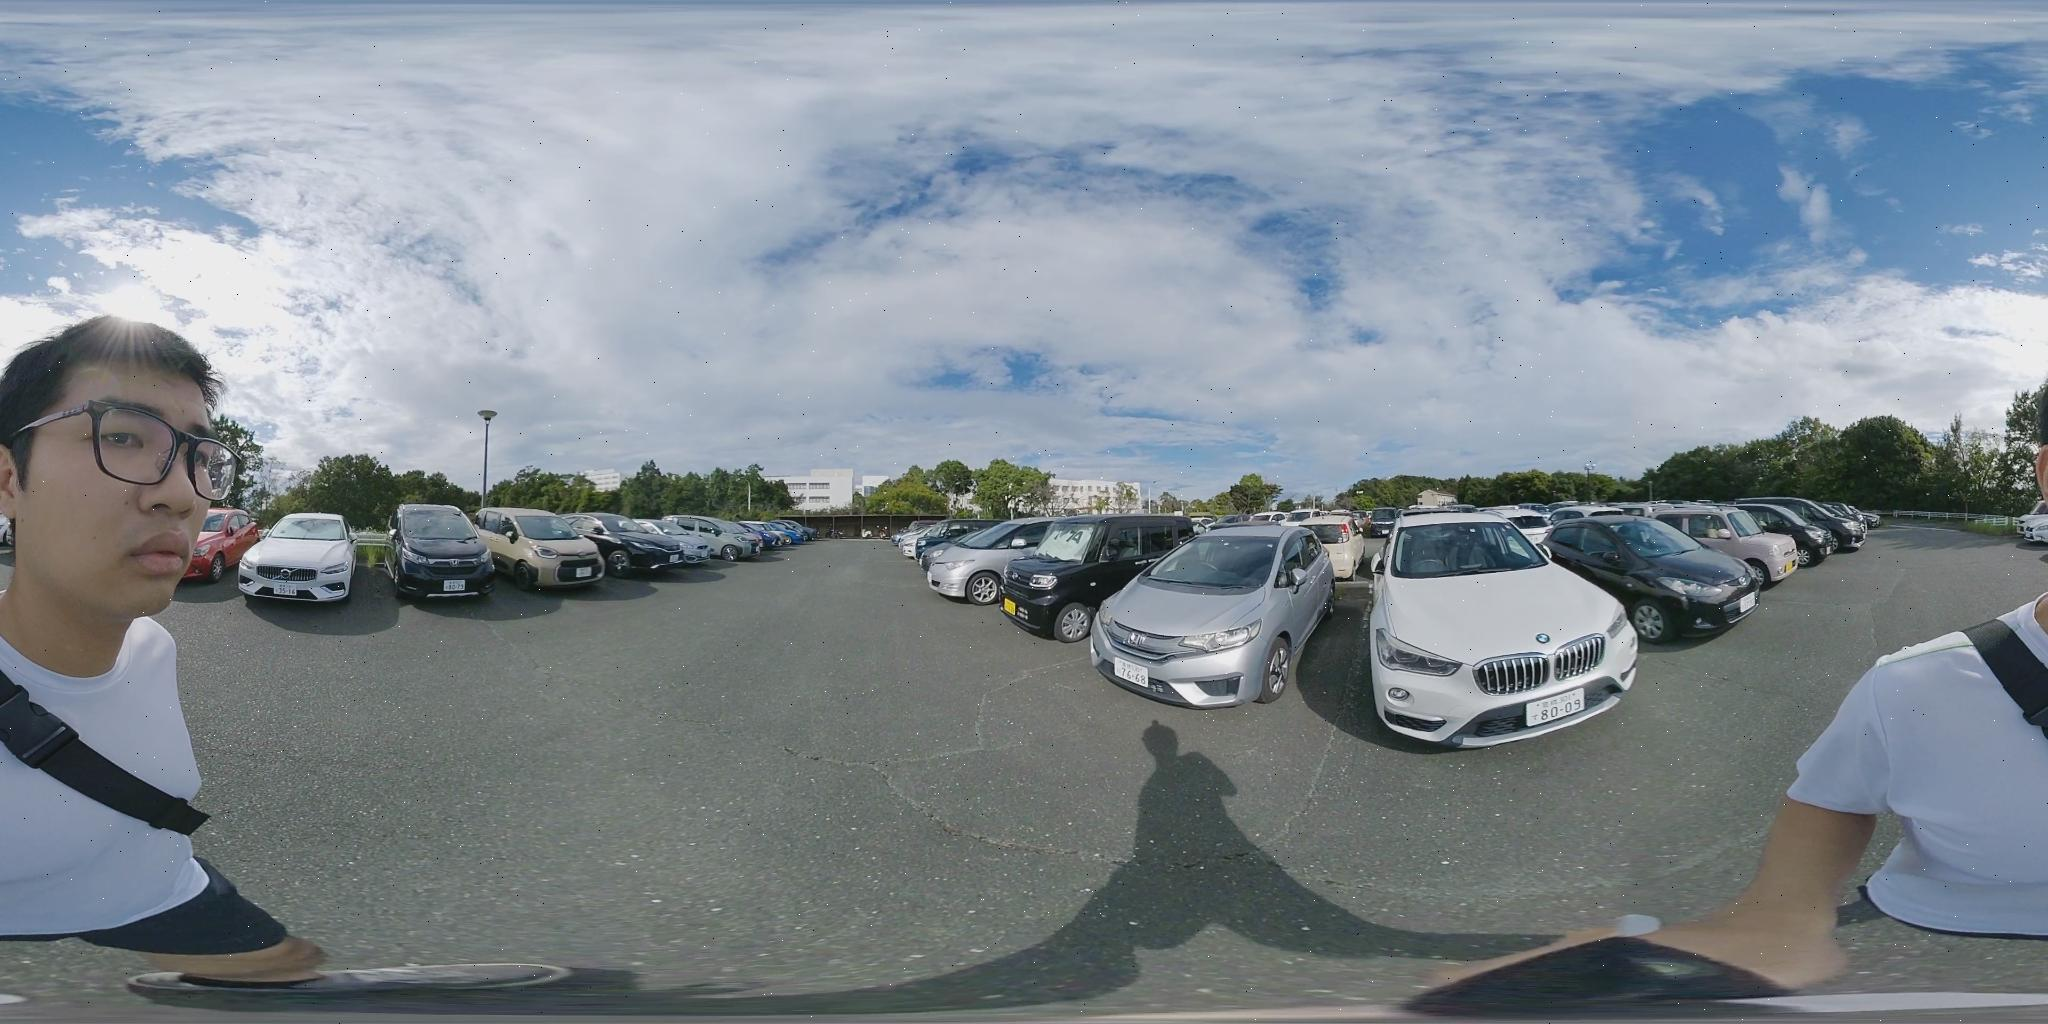car: (1315, 512, 1643, 752), (1089, 522, 1343, 704), (1529, 512, 1775, 644), (929, 512, 1203, 611), (1629, 499, 1821, 583), (477, 511, 616, 588), (232, 517, 355, 605), (385, 508, 495, 598), (1742, 502, 1849, 559), (1785, 502, 1878, 556), (739, 522, 812, 551)
